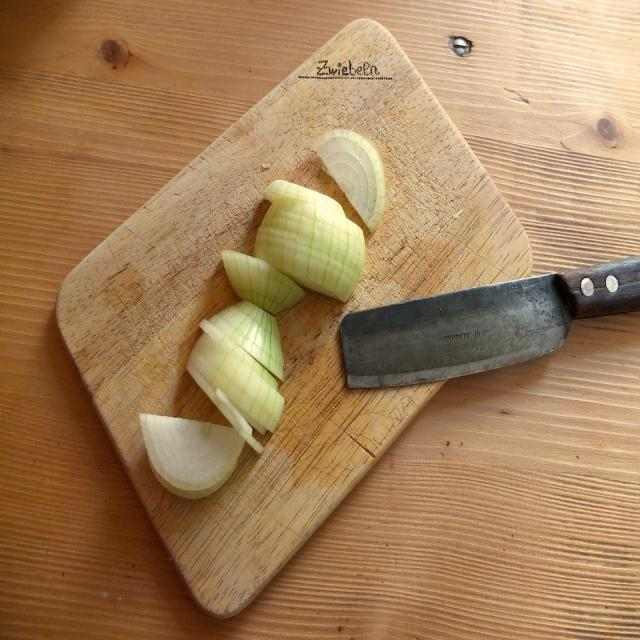Knife: (340, 255, 640, 387)
